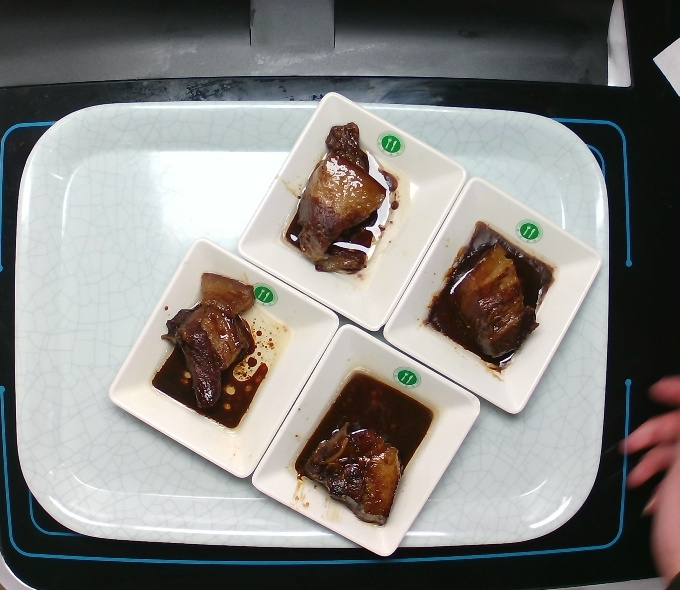wcq-DaKuaiRou: (288, 373, 448, 526), (144, 269, 291, 429), (420, 213, 558, 382), (275, 117, 412, 285)
